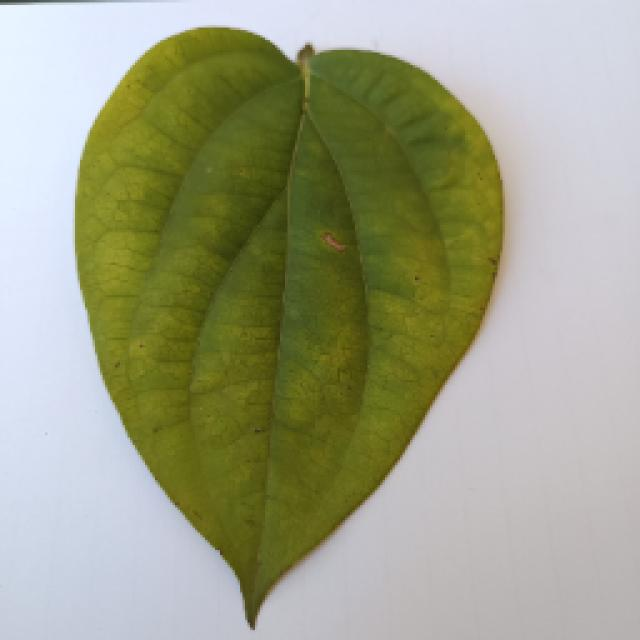slow-decline: (45, 38, 537, 630)
